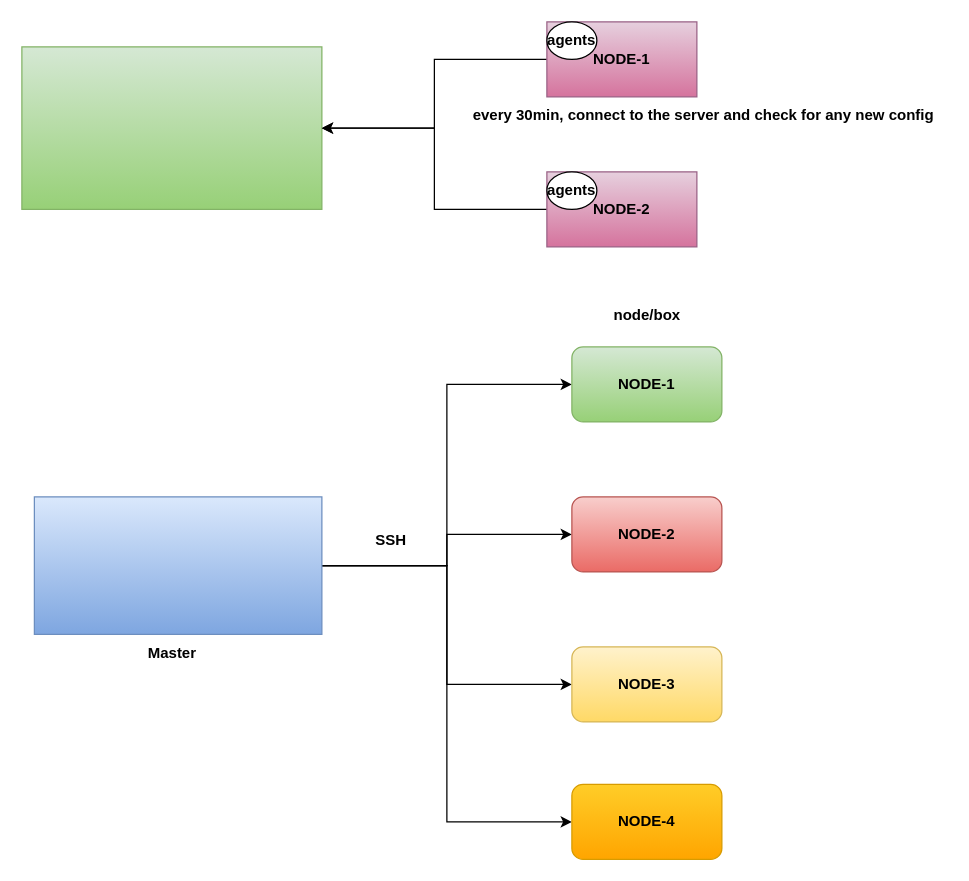
This 969x881 diagram has some shape labels left out. Each missing label, with the centre of its shape:
"Ansible Server" belongs at (177,565).
"CM Server" belongs at (171,127).
